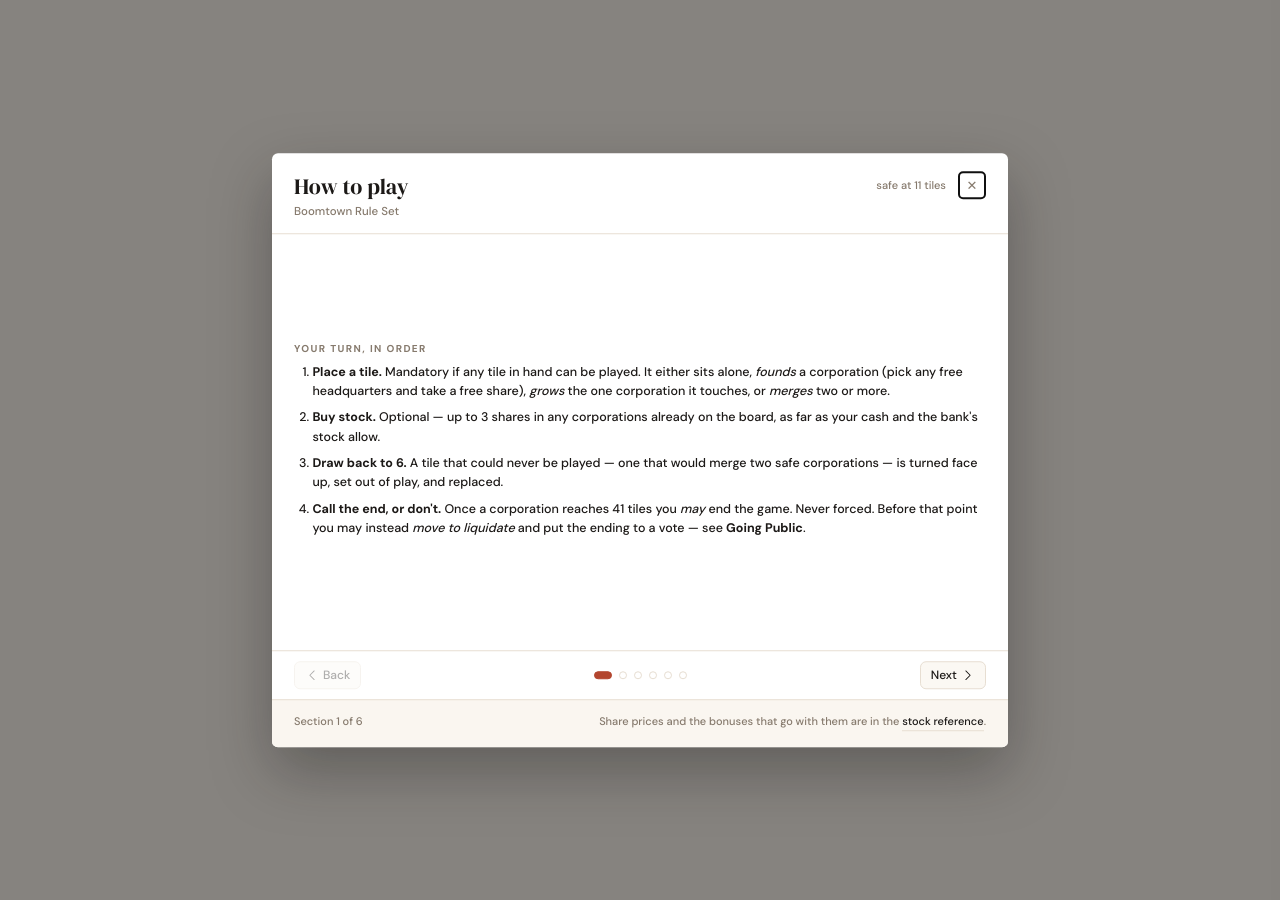
it: RulesReference carousel › shows one section at a time, and steps through them in order
Check: the dialog "How to play" shows "Your turn, in order", box 294,342 -> 427,355
Check: the dialog "How to play" does not show "never counts", box 272,153 -> 1008,747
Click the button with aria-label "Next section".
click(953, 675)  # box 920,661 -> 986,689
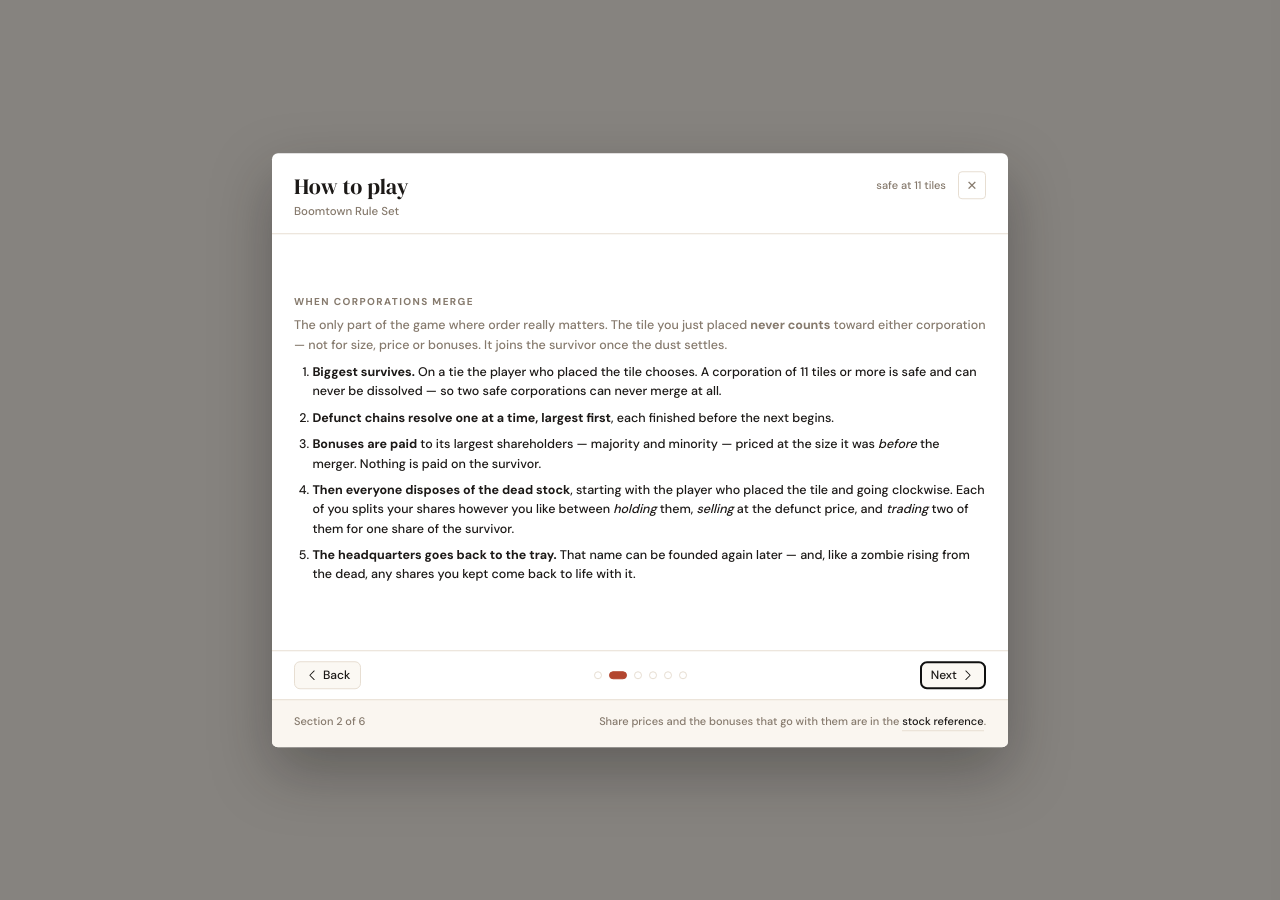
Check: the dialog "How to play" shows "When corporations merge", box 294,296 -> 474,308
Check: the dialog "How to play" no longer shows "Place a tile", box 272,153 -> 1008,747
Click the button with aria-label "Previous section".
click(328, 675)  # box 294,661 -> 361,689
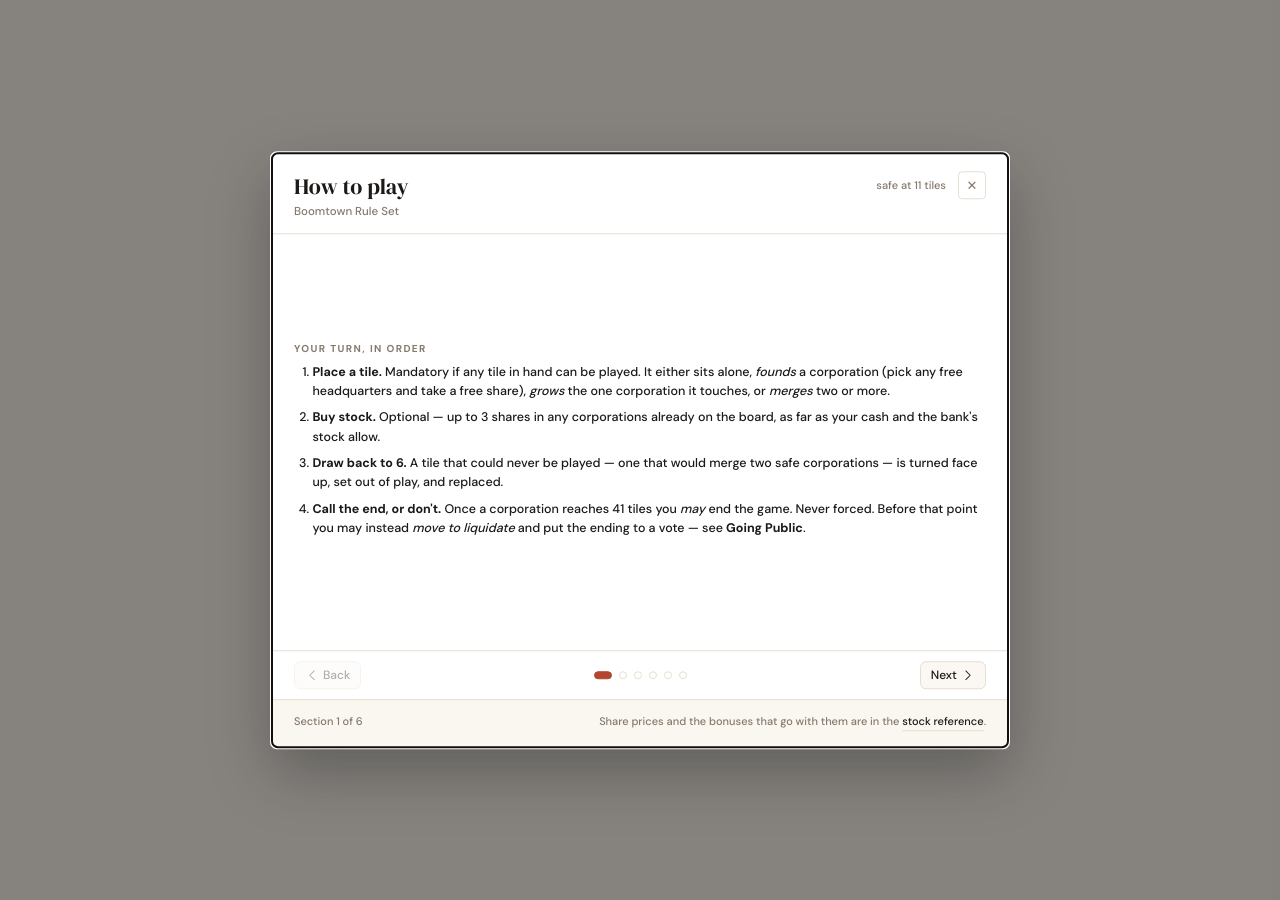
Check: the dialog "How to play" shows "Your turn, in order", box 294,342 -> 427,355
